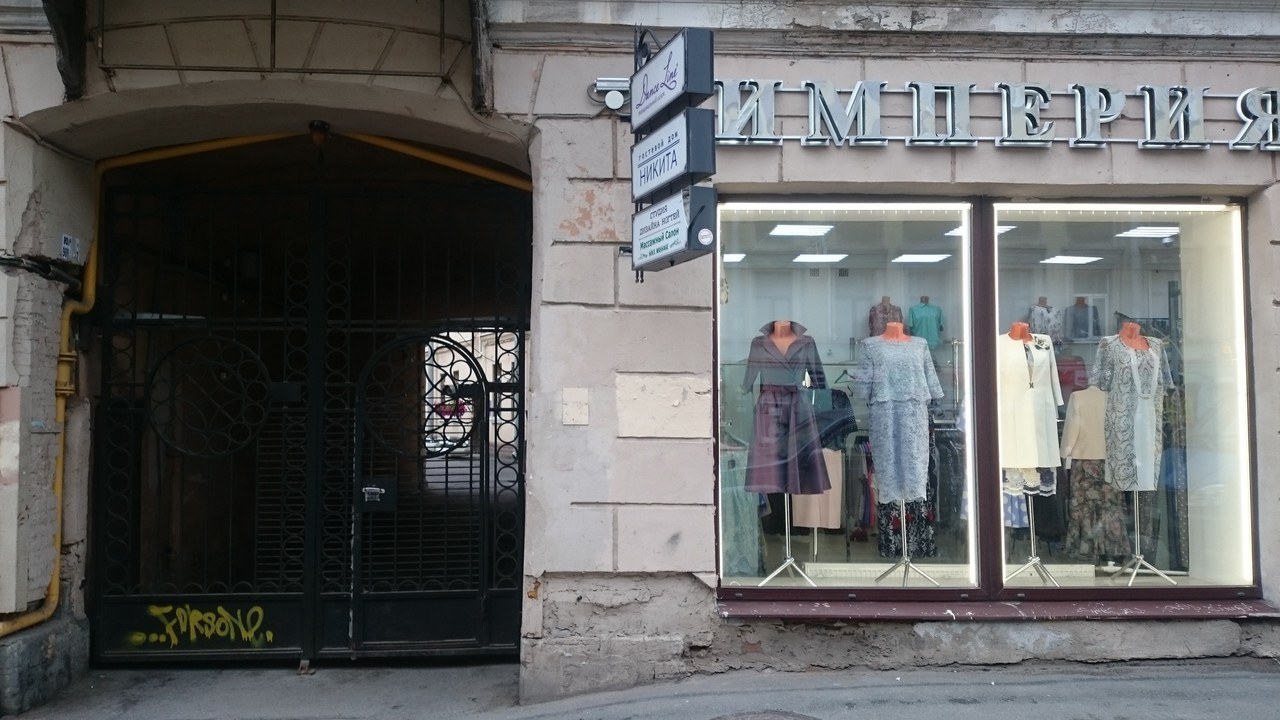arch: (79, 104, 535, 683)
cantilever: (598, 17, 717, 288)
signboard: (719, 81, 1278, 152)
window: (714, 197, 1247, 597)
